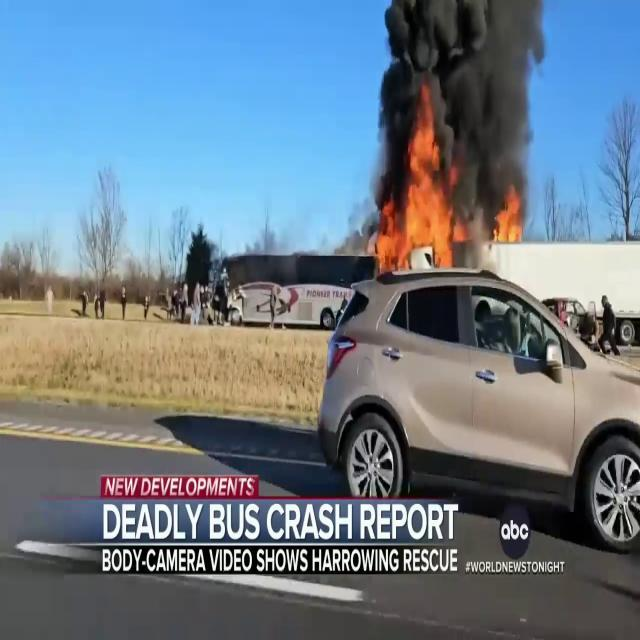Fire: (372, 105, 458, 276), (492, 184, 532, 247)
Smoke: (370, 1, 551, 190)
